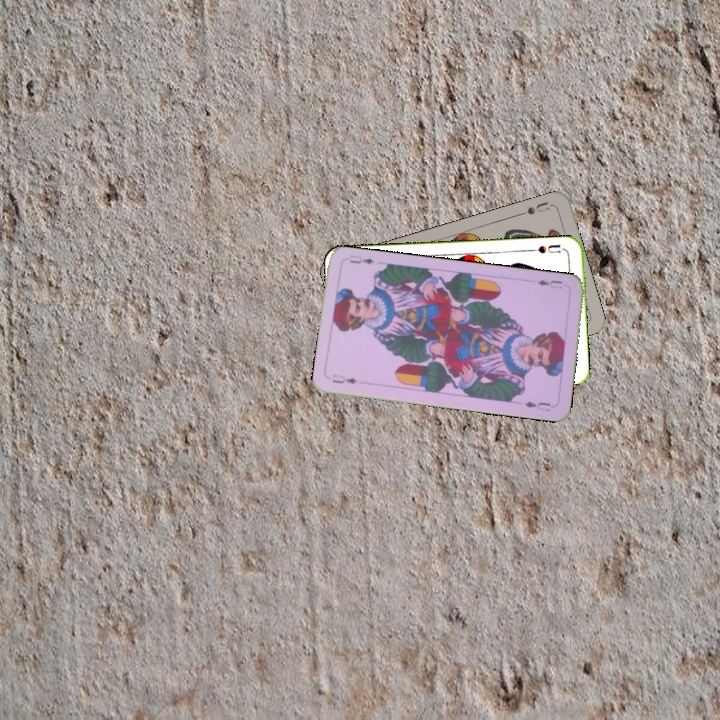EU: (533, 275, 565, 291), (328, 370, 360, 386)
SU: (515, 198, 555, 218), (527, 240, 568, 256)
